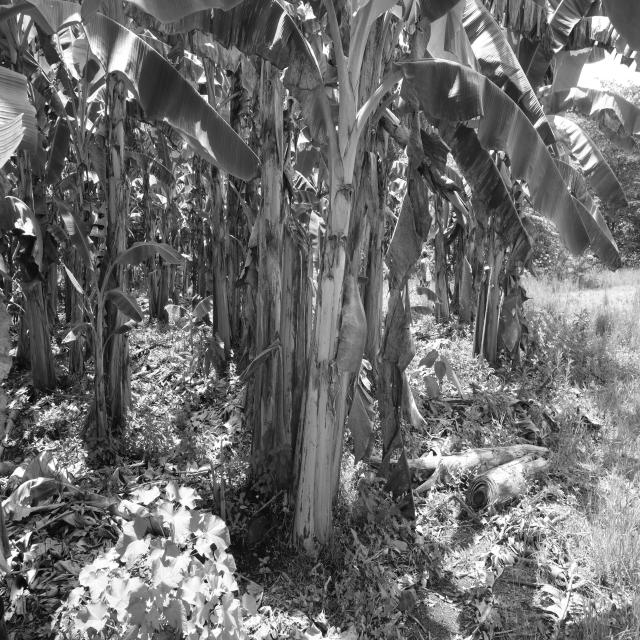Banana-plant: (296, 3, 394, 564), (10, 63, 59, 395), (252, 56, 288, 501), (98, 65, 138, 443), (204, 99, 236, 389)
